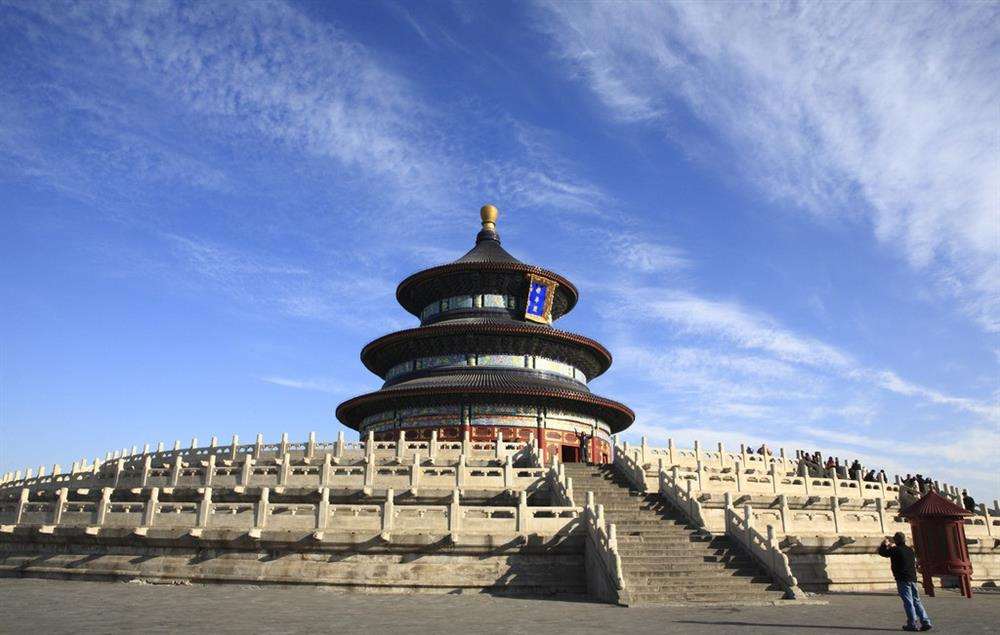Temple_of_Heaven: (329, 200, 638, 457)
